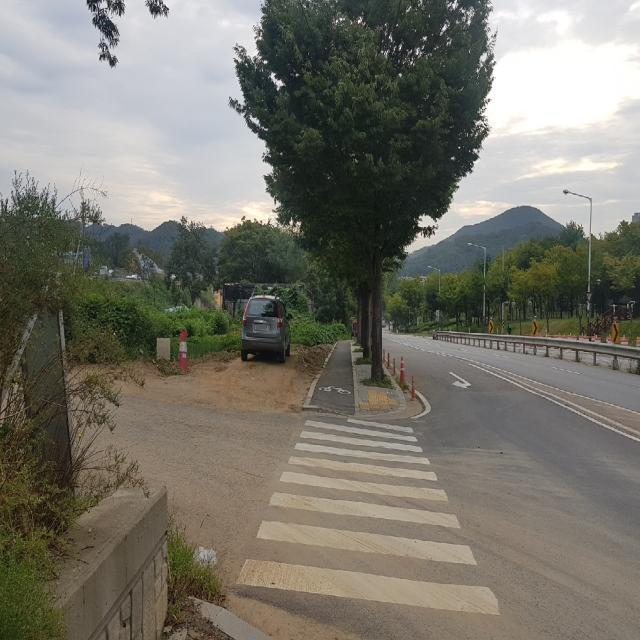횡단보도: (234, 417, 503, 617)
